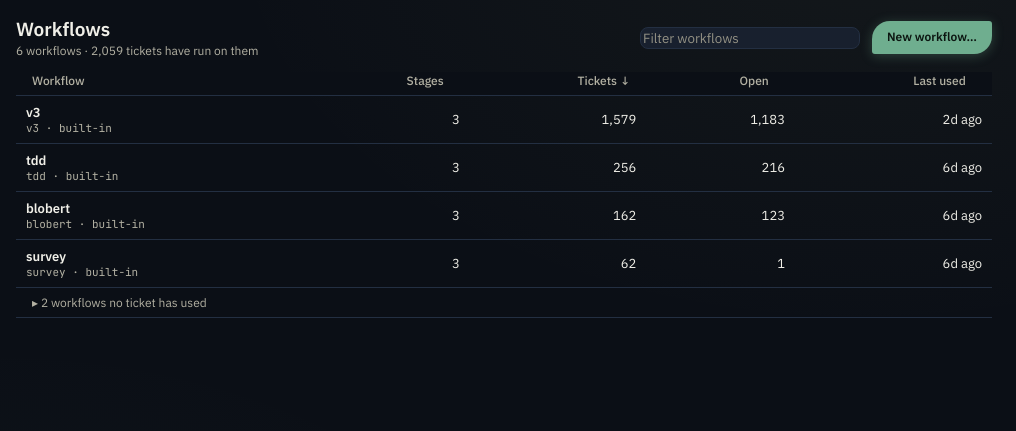
Test: WorkflowIndex › folds the ones no ticket has used, and opens them on request
Click the button "▸ 2 workflows no ticket has used". click: [119, 302]
box: [26, 294, 213, 311]
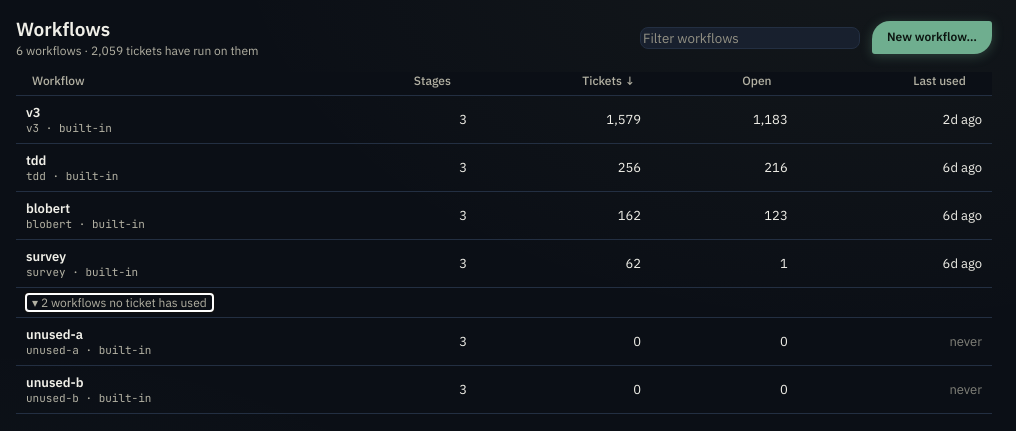
Now the button "▾ 2 workflows no ticket has used" is expanded, box [26, 294, 213, 311]
